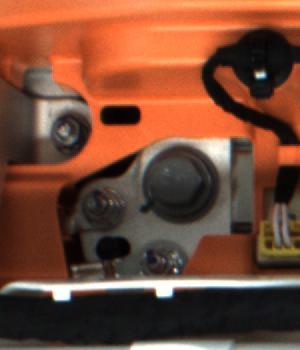nut_b: (141, 144, 220, 224)
screw_s: (139, 243, 185, 279), (85, 184, 126, 224), (53, 116, 84, 149)
